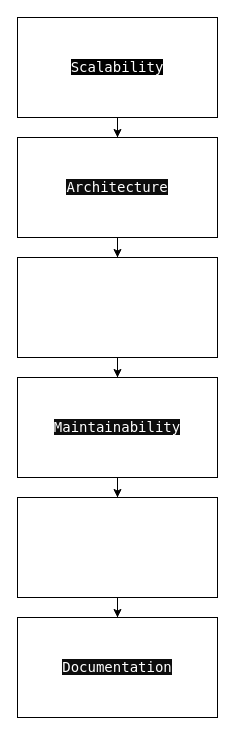
This 235x735 diagram has some shape labels left out. Each missing label, with the centre of its shape:
Extensibility: [117,547]
Performance: [117,307]
